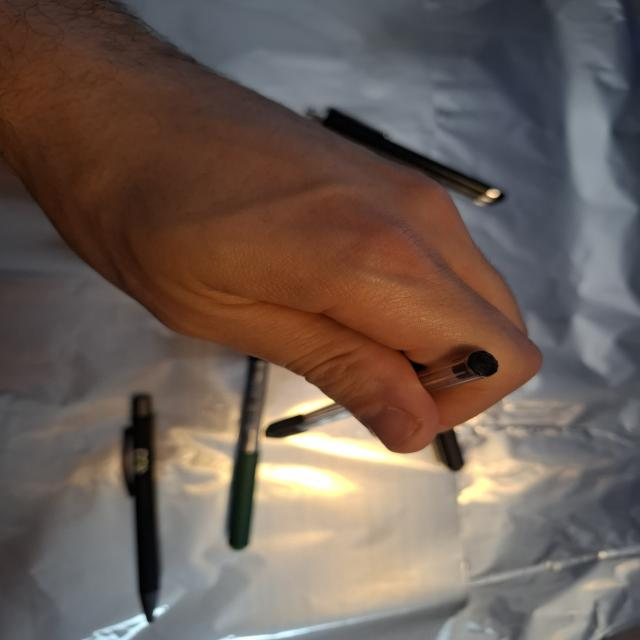glove_off: (5, 18, 546, 456)
